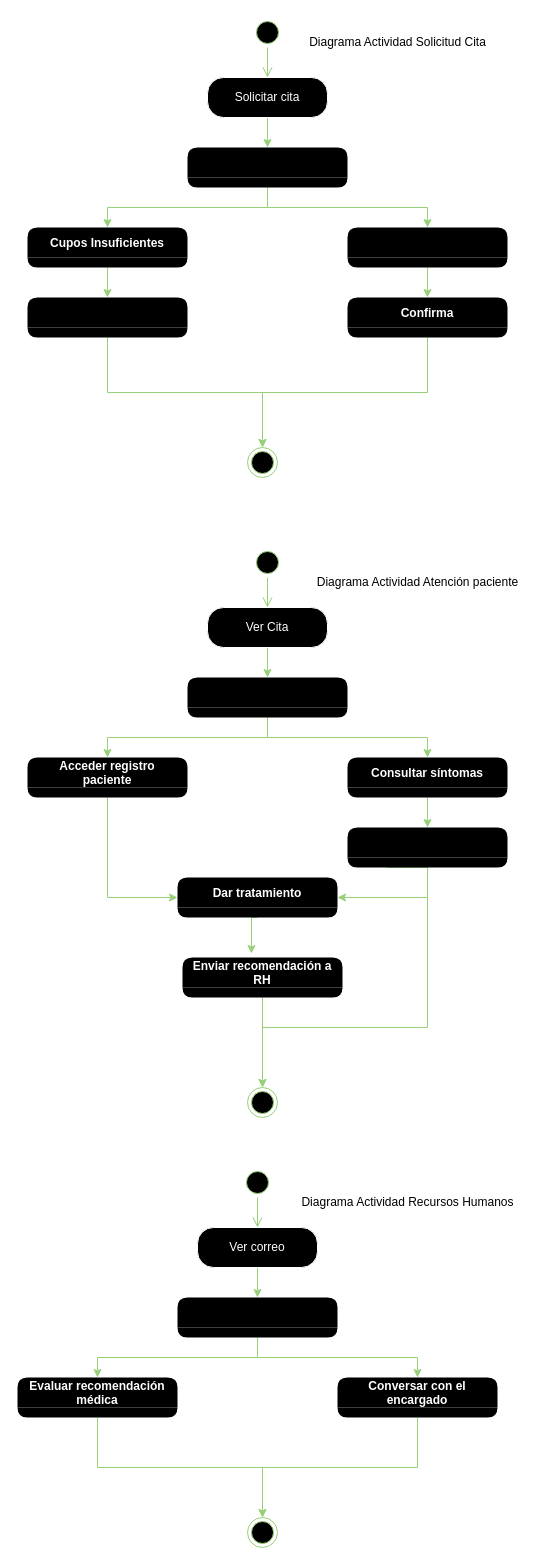
Image size: 544x1565. Some labels were removed from this diagram. The box of each missing label's shape, as (x1, y1, x2, y2) in pixels:
Analizar situación: (177, 1297, 337, 1337)
Cupos disponibles: (347, 227, 507, 267)
Evaluar paciente: (187, 677, 347, 717)
Notifica: (27, 297, 187, 337)
Registrar síntomas: (347, 827, 507, 867)
Validar Cupos: (187, 147, 347, 187)
